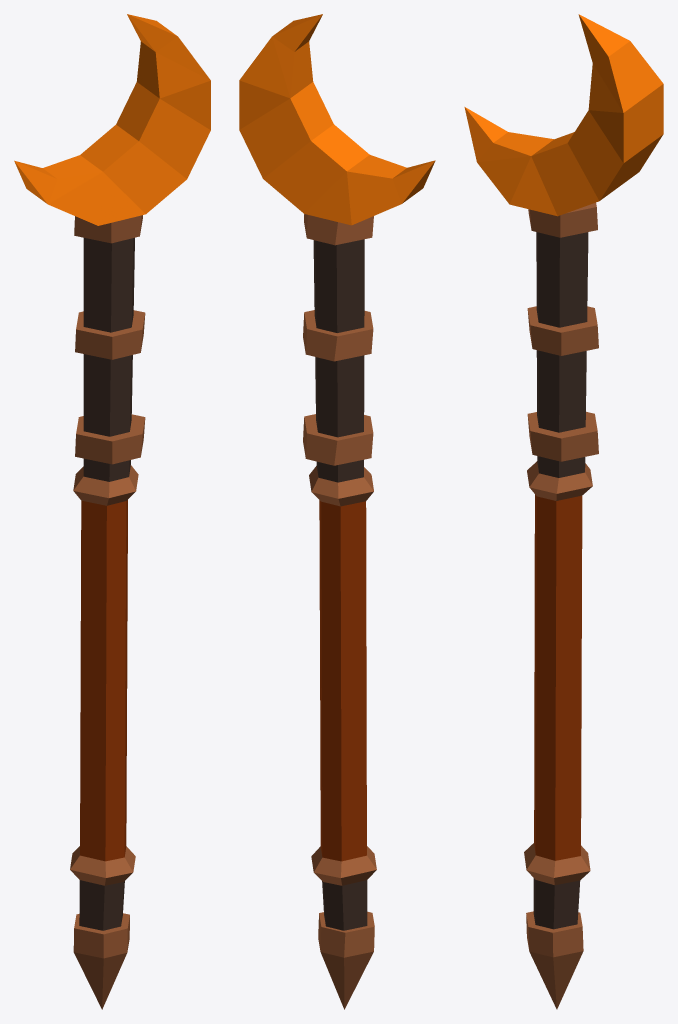
File: Wand 03.FBX
3 renders of one model, left to right at view 1: azimuth 30°, elevation 25°; view 2: azimuth 150°, elevation 25°; view 3: azimuth 330°, elevation 25°, orthographic.
Parts seen in each view (by area): view 1: Wand 03; view 2: Wand 03; view 3: Wand 03.
Boxes of the visible parts, x1,y1,x2,y2 form: Wand 03: [14, 14, 210, 1009]; Wand 03: [239, 14, 435, 1009]; Wand 03: [464, 14, 663, 1009].
Size of the model in its own units: 15.07 by 80.63 by 5.83.
